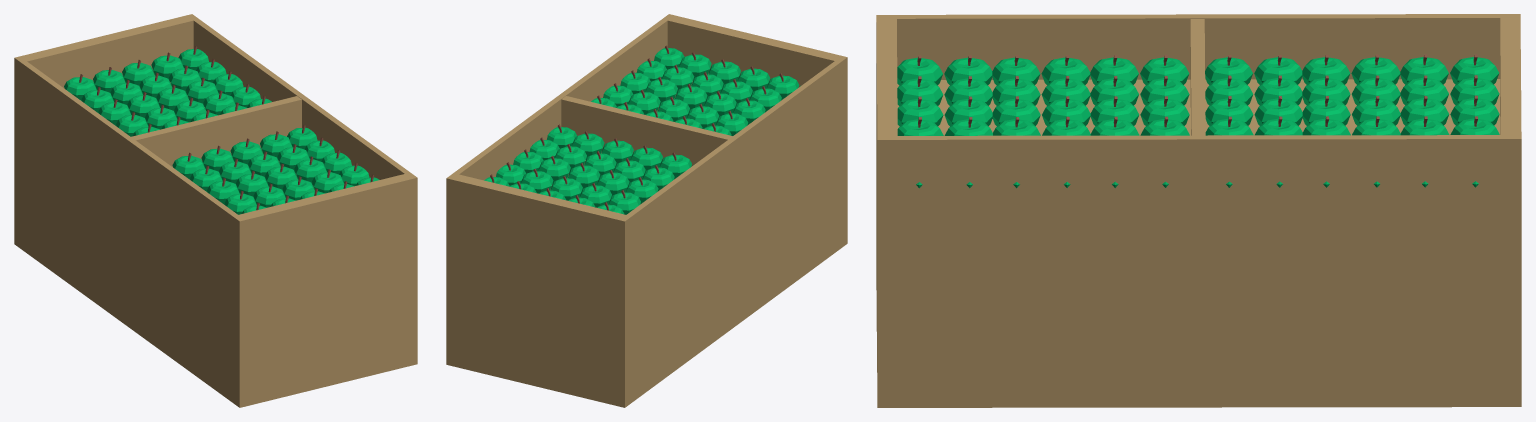
Rendered from green_apple_box.gltf.
3 renders of one model, left to right at view 1: azimuth 30°, elevation 25°; view 2: azimuth 150°, elevation 25°; view 3: azimuth 270°, elevation 25°, orthographic. The views are drawn at different scales.
Parts seen in each view (by area): view 1: apple_001.006; view 2: apple_001.006; view 3: apple_001.006.
Boxes of the visible parts, <box> form: apple_001.006: <box>14,14,417,407</box>; apple_001.006: <box>446,14,847,407</box>; apple_001.006: <box>876,14,1521,407</box>.
Bounding box in the file's own units: 4.28 × 4.23 × 9.23.
2 materials, 1 textured.
